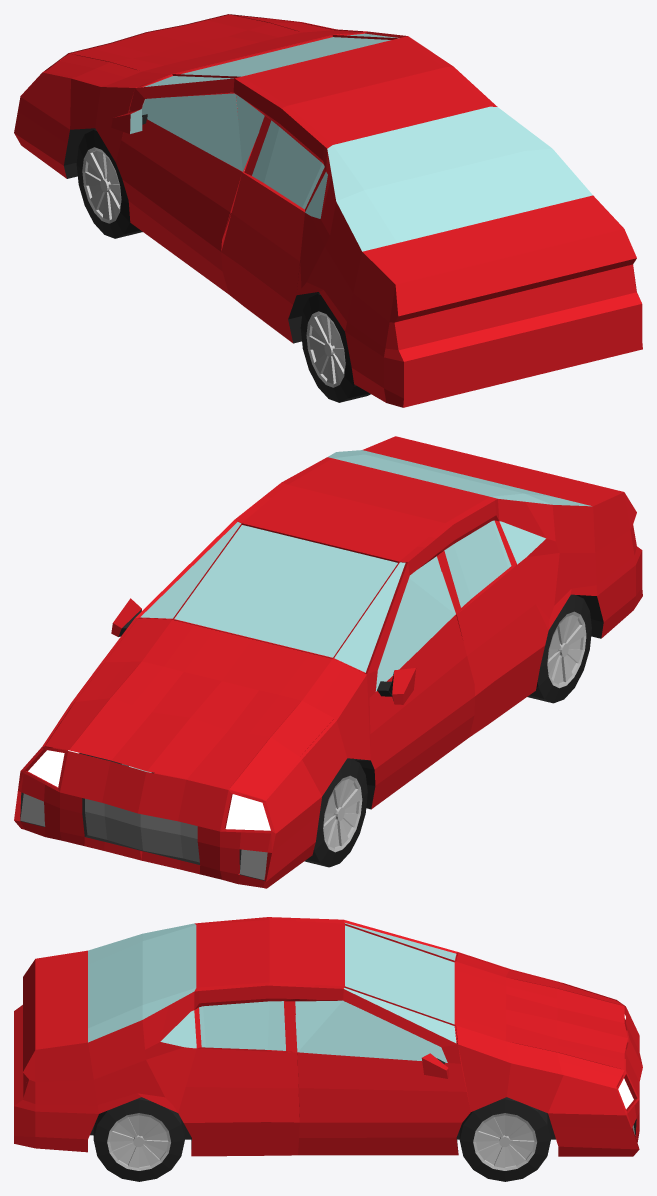
Rendered from red-car5.glb.
The picture shows the model from 3 angles, top to bottom: view 1: azimuth 30°, elevation 25°; view 2: azimuth 150°, elevation 25°; view 3: azimuth 270°, elevation 25°; orthographic projection. The views are drawn at different scales.
Parts seen in each view (by area): view 1: Main, Boot, Roof, Back door, Front door, Bonnet, Back side, Front side, Front window, Back wheels, Front wheels; view 2: Main, Bonnet, Back door, Roof, Front door, Back side, Front side, Boot, Front window, Front wheels, Back wheels; view 3: Main, Back door, Front door, Bonnet, Back side, Roof, Front side, Boot, Back wheels, Front wheels, Front window.
Boxes of the visible parts, x1,y1,x2,y2 form: Main: (20, 14, 642, 407); Boot: (362, 195, 636, 316); Roof: (234, 36, 497, 148); Back door: (221, 116, 329, 343); Front door: (116, 110, 242, 294); Bonnet: (46, 14, 362, 87); Back side: (297, 176, 641, 407); Front side: (14, 18, 302, 178); Front window: (141, 93, 264, 171); Back wheels: (300, 293, 370, 402); Front wheels: (76, 129, 142, 238); Main: (14, 450, 603, 888); Bonnet: (45, 617, 364, 799); Back door: (437, 520, 559, 737); Roof: (234, 457, 497, 561); Front door: (369, 615, 474, 809); Back side: (525, 492, 642, 638); Front side: (44, 675, 370, 888); Boot: (363, 436, 623, 506); Front window: (375, 556, 455, 691); Front wheels: (79, 753, 367, 867); Back wheels: (527, 594, 591, 703); Main: (14, 920, 642, 1150); Back door: (145, 1001, 299, 1156); Front door: (297, 1001, 470, 1155); Bonnet: (454, 953, 627, 1086); Back side: (14, 1005, 177, 1152); Roof: (195, 917, 344, 991); Front side: (458, 982, 639, 1156); Boot: (23, 950, 87, 1071); Back wheels: (93, 1097, 184, 1181); Front wheels: (459, 1097, 550, 1181); Front window: (295, 1000, 447, 1062).
Bounding box in the file's own units: 1.19 × 0.8791 × 2.73.
